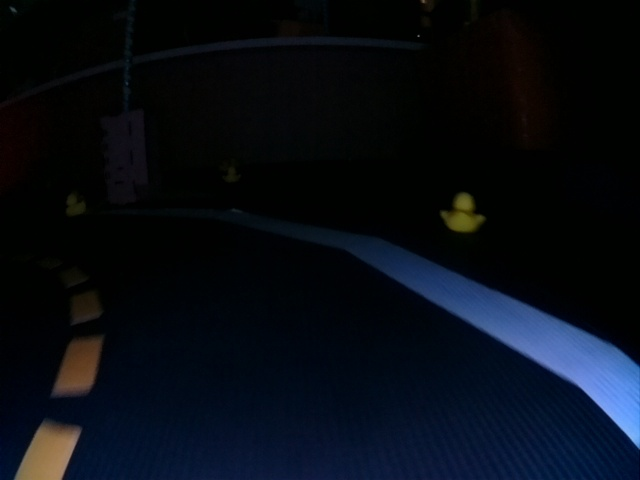Duckie: (443, 193, 484, 232), (64, 192, 88, 218), (226, 166, 240, 183)
